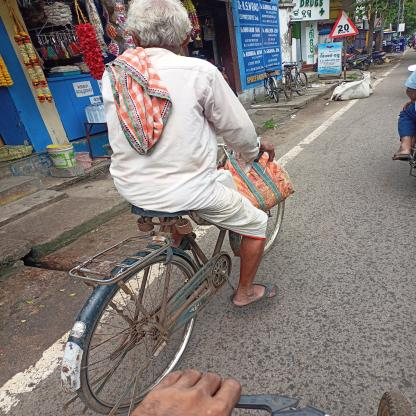bike: (45, 126, 314, 413)
